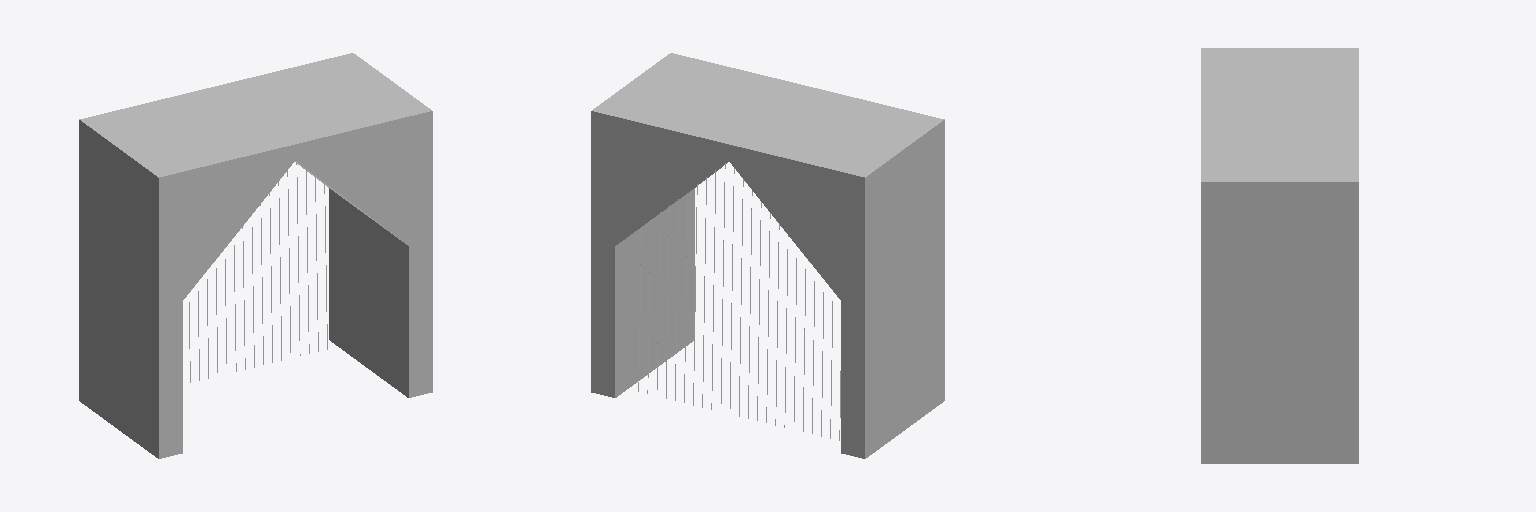
File: FoundationT2_Gate_.obj
3 views of the same model, side by side, from view 1: azimuth 30°, elevation 25°; view 2: azimuth 150°, elevation 25°; view 3: azimuth 270°, elevation 25° (orthographic).
Parts seen in each view (by area): view 1: FoundationT2_Gate_, Cylinder; view 2: FoundationT2_Gate_, Cylinder; view 3: FoundationT2_Gate_.
Part boxes in pixels (x1,y1,x2,y2): FoundationT2_Gate_: (79,53,432,458); Cylinder: (189,163,327,382); FoundationT2_Gate_: (591,53,944,458); Cylinder: (638,163,840,440); FoundationT2_Gate_: (1201,48,1358,463).
Size of the model in its own units: 6 by 5.89 by 3.01.